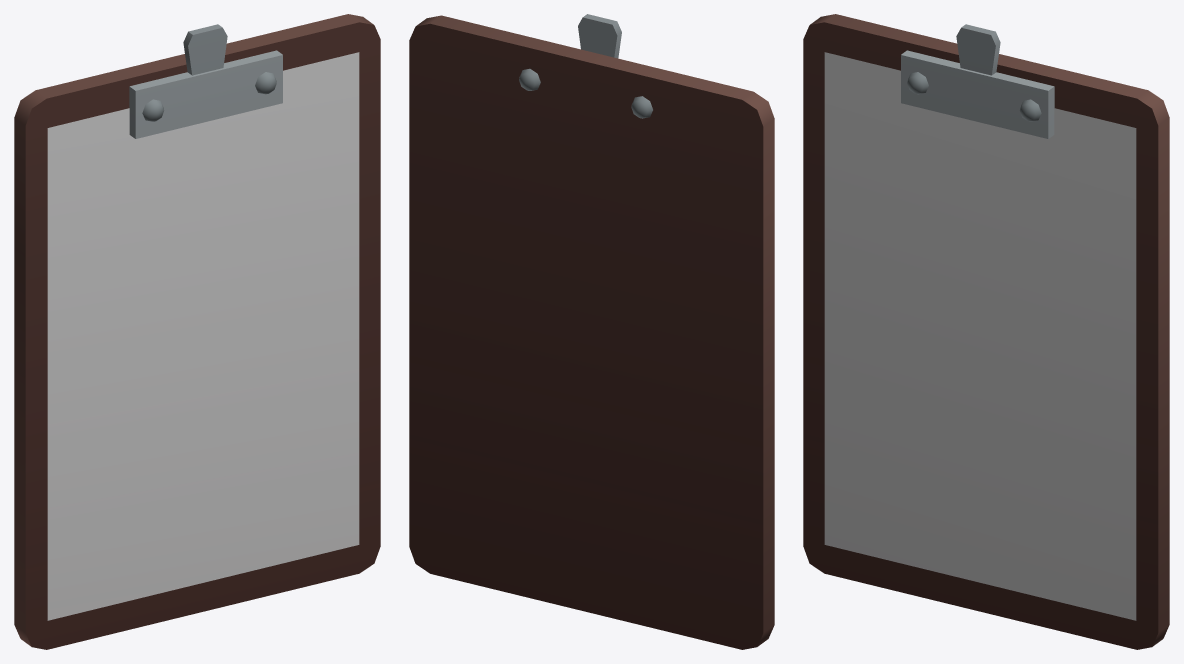
File: Tablet_04.fbx
The picture shows the model from 3 angles, left to right: view 1: azimuth 30°, elevation 25°; view 2: azimuth 150°, elevation 25°; view 3: azimuth 330°, elevation 25°; orthographic projection.
Visible parts, largest first — view 1: Tablet_04; view 2: Tablet_04; view 3: Tablet_04.
Boxes of the visible parts, box(x1,y1,x2,y2) form: Tablet_04: box(14, 14, 380, 649); Tablet_04: box(409, 14, 774, 649); Tablet_04: box(803, 14, 1169, 649).
Size of the model in its own units: 20.51 by 2.64 by 32.24.
